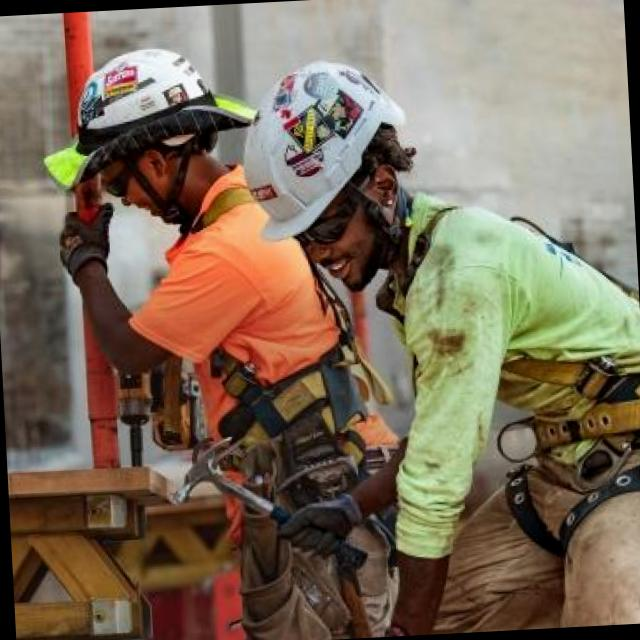goggles: (284, 198, 390, 254), (90, 150, 190, 196)
helmet: (230, 47, 406, 228), (60, 41, 242, 156)
no-vest: (399, 226, 640, 425), (156, 206, 316, 430)
